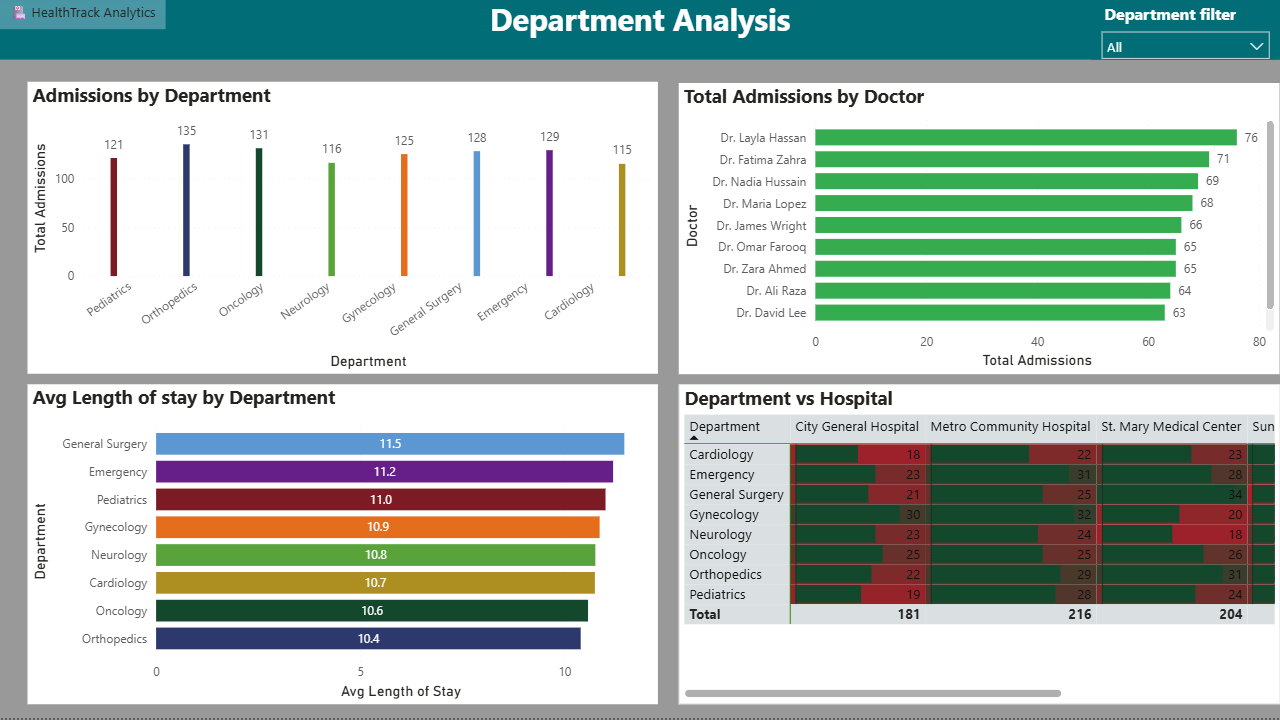

What the dashboard file says about the page in this screenshot:
{"tool":"powerbi","page":{"name":"Department Analysis","canvas":[1280,720],"ordinal":1},"visuals":[{"type":"textbox","title":"Department Analysis","box":[0,0,1280,61.5],"z":0},{"type":"clusteredColumnChart","title":"Admissions by Department ","fields":{"Category":["Admissions.Department"],"Y":["_Measures.Total Admissions"],"Series":["Admissions.Department"]},"box":[27.4,83.5,630.7,292.3],"z":1000},{"type":"barChart","title":"Avg Length of stay by Department","fields":{"Y":["_Measures.Avg Length of Stay"],"Category":["Admissions.Department"],"Series":["Admissions.Department"]},"box":[27.4,385.9,630.7,319.7],"z":2000},{"type":"clusteredBarChart","fields":{"Y":["_Measures.Total Admissions"],"Category":["Admissions.Doctor"]},"box":[678.2,85,600.5,290.9],"z":3000},{"type":"pivotTable","title":"Department vs Hospital","fields":{"Rows":["Admissions.Department"],"Columns":["Admissions.Hospital"],"Values":["_Measures.Total Admissions"]},"box":[678.2,385.9,601.9,319.7],"z":4000},{"type":"slicer","title":"Department filter","fields":{"Values":["Admissions.Department"]},"box":[1091.8,0,188.2,61.5],"z":5000},{"type":"textbox","box":[0,0,165.3,31.4],"z":6000}]}

Visuals, with their boxes on the page's 1280x720 design canvas (x1, y1, x2, y2). These are canvas units, not pixel positions in the 1280x720 screenshot, which may show the page scaled, cropped or inside an application window:
"Department Analysis" textbox: [0,0,1280,62]
"Admissions by Department " clusteredColumnChart: [27,84,658,376]
"Avg Length of stay by Department" barChart: [27,386,658,706]
clusteredBarChart - _Measures.Total Admissions x Admissions.Doctor: [678,85,1279,376]
"Department vs Hospital" pivotTable: [678,386,1280,706]
"Department filter" slicer: [1092,0,1280,62]
textbox: [0,0,165,31]
